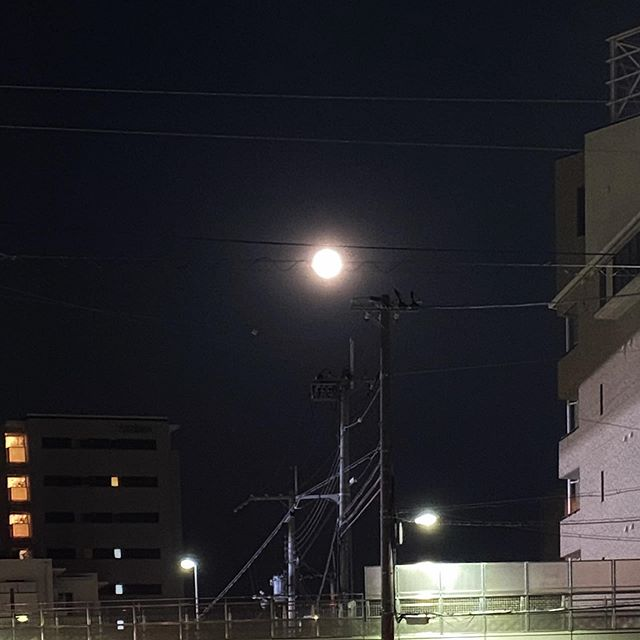building: (543, 42, 640, 564), (1, 408, 177, 640)
moon: (301, 239, 352, 288)
sky: (1, 1, 536, 411)
